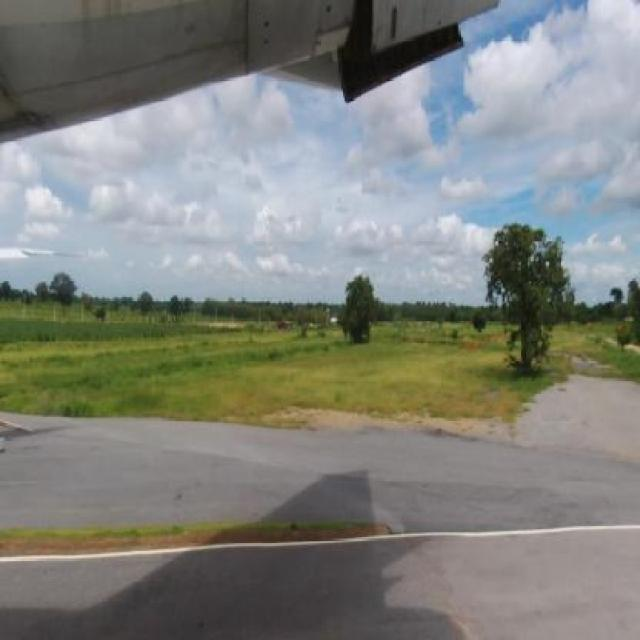Rust: (188, 1, 261, 81), (68, 2, 150, 48), (373, 0, 416, 52)
